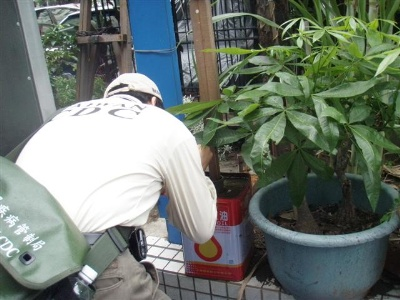bucket: (181, 171, 252, 281)
